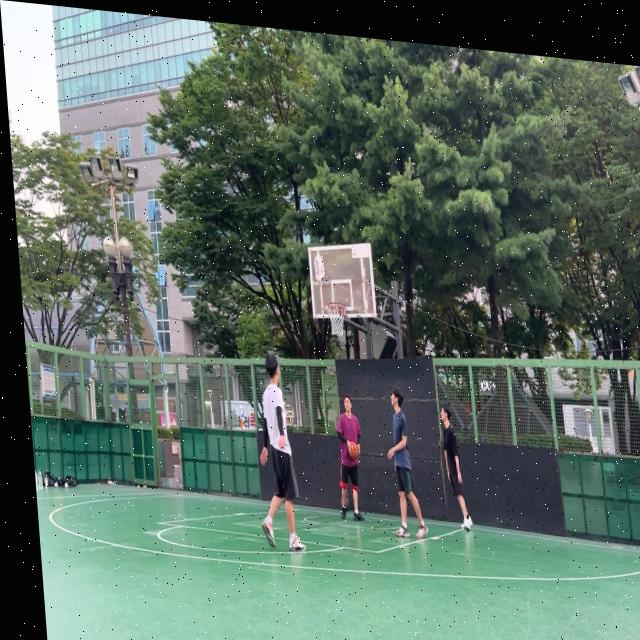basketball: (347, 441, 360, 460)
hoop: (326, 301, 348, 336)
